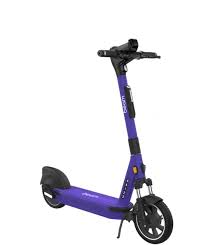kick_board: (40, 38, 173, 245)
kick_handler: (97, 38, 161, 73)
kick_neck: (119, 77, 147, 180)
kick_wheel: (131, 196, 173, 244), (41, 166, 66, 208)
